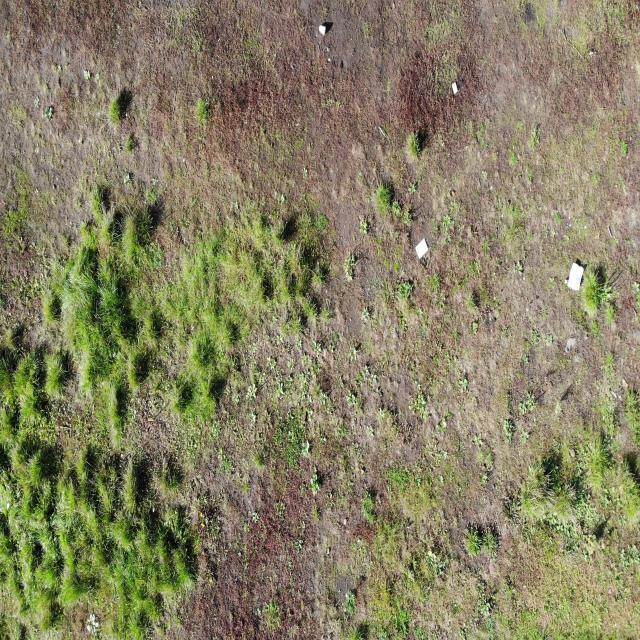rubbish: (567, 261, 584, 291), (414, 237, 429, 259), (451, 81, 459, 94), (378, 126, 386, 138), (318, 25, 326, 36), (211, 74, 214, 79)
